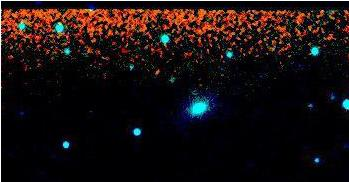star: (140, 56, 170, 86)
